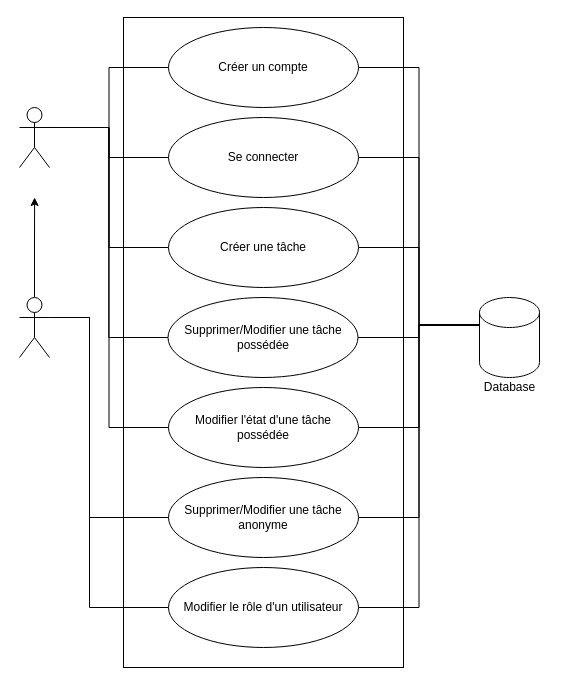
This 562x685 diagram has some shape labels left out. Here are the shapes that lost their labels. From the top down, the box of each, then its label:
(18, 106, 50, 168): User
(18, 296, 50, 358): Admin
